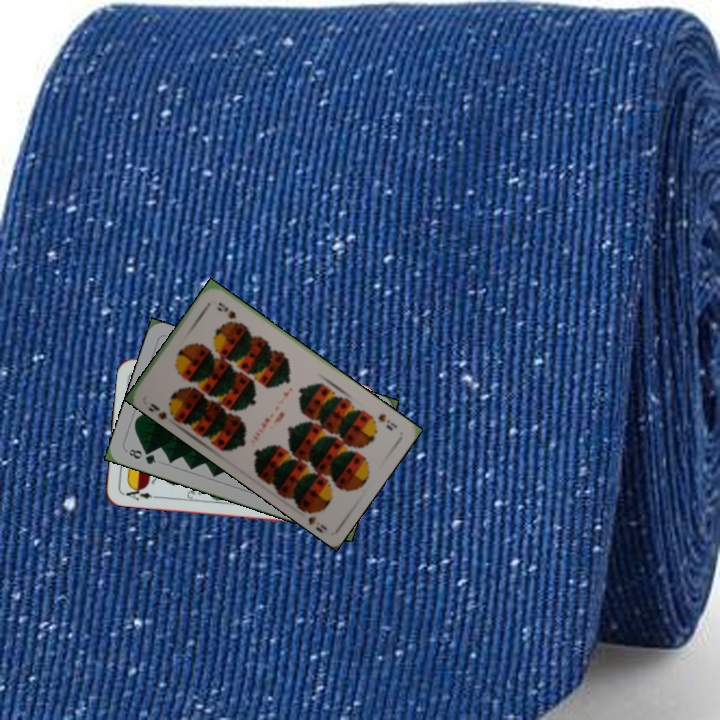EA: (118, 483, 159, 503)
G8: (123, 445, 159, 467)
S9: (145, 398, 179, 422), (374, 410, 400, 433)
